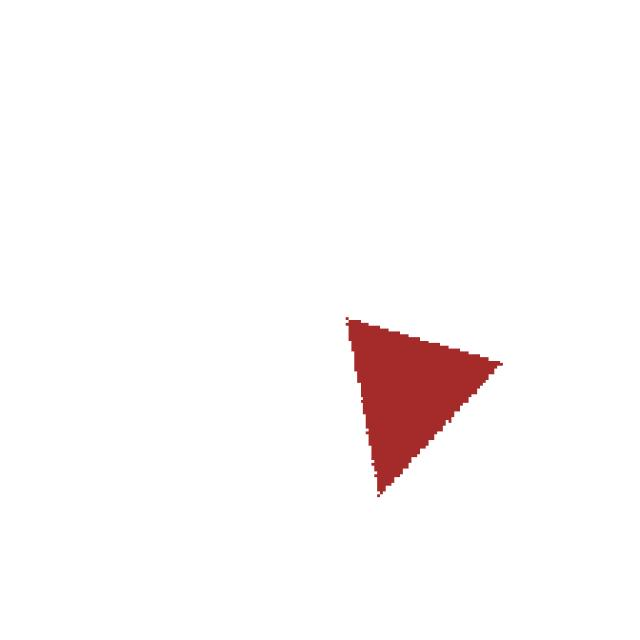Triangle: (318, 255, 536, 534)
